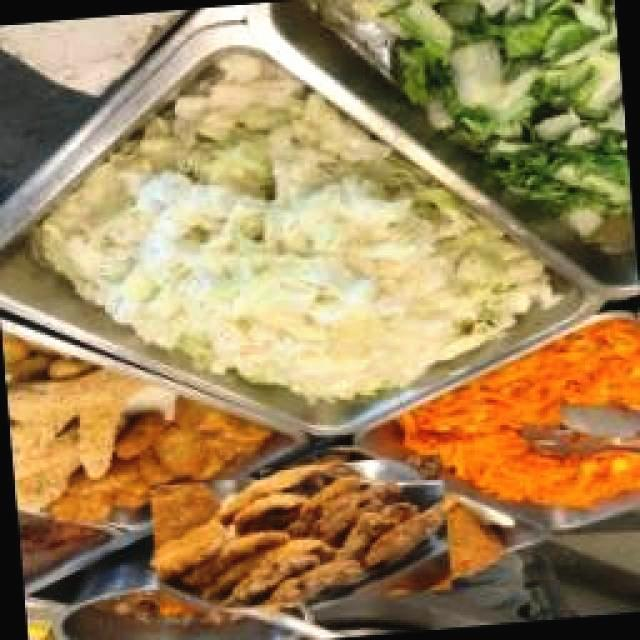carrot_eggs: (398, 313, 637, 512)
chinese_cabbage: (28, 49, 567, 406)
